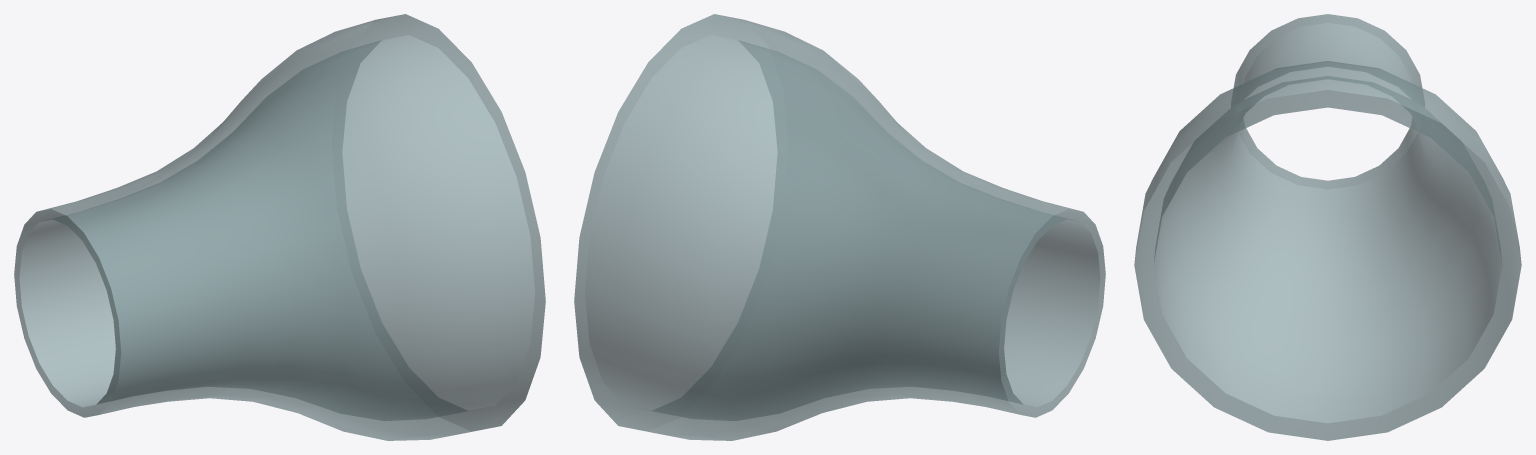
Rendered from Tube_BigSmall1.fbx.
3 renders of one model, left to right at view 1: azimuth 30°, elevation 25°; view 2: azimuth 150°, elevation 25°; view 3: azimuth 270°, elevation 25°, orthographic. The views are drawn at different scales.
Parts seen in each view (by area): view 1: Tube_BigSmall; view 2: Tube_BigSmall; view 3: Tube_BigSmall.
Part boxes in pixels (x1,y1,x2,y2): Tube_BigSmall: [14, 14, 545, 440]; Tube_BigSmall: [574, 14, 1105, 440]; Tube_BigSmall: [1134, 14, 1521, 440].
Size of the model in its own units: 4 by 4 by 4.
